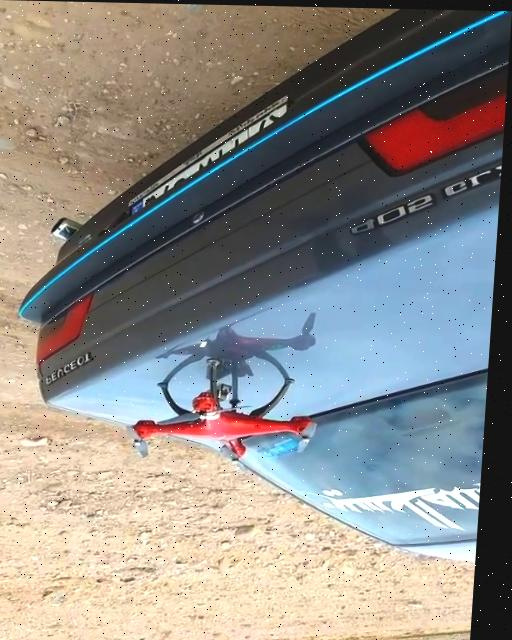drone: (121, 351, 328, 470)
